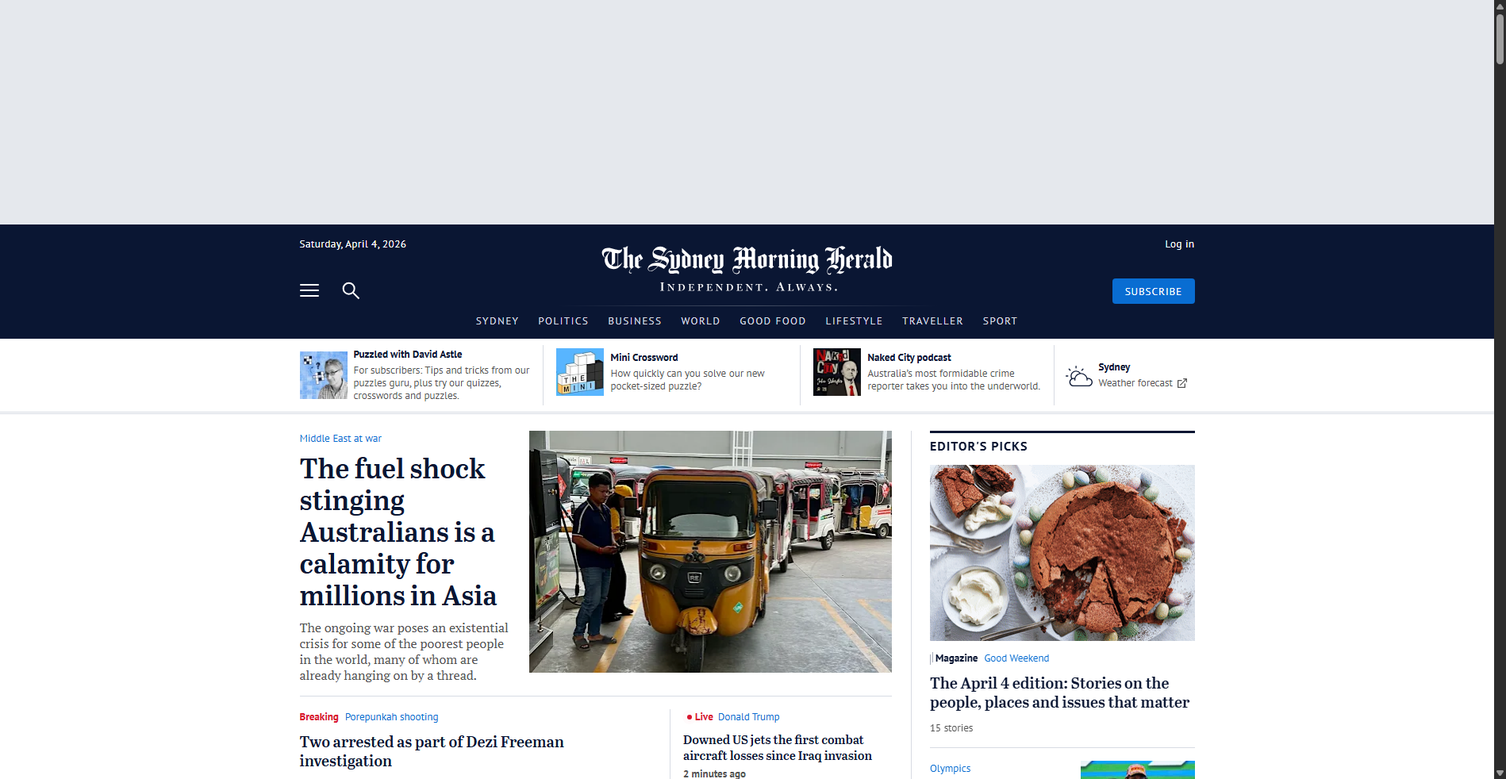general_button: (300, 275, 331, 305), (1259, 89, 1296, 102)
general_image: (529, 431, 892, 672), (930, 465, 1195, 641), (300, 351, 347, 399), (557, 348, 604, 396), (814, 348, 861, 396), (1080, 761, 1195, 779)
general_link: (529, 431, 892, 672), (930, 465, 1195, 641), (300, 455, 510, 613), (300, 733, 657, 771), (930, 675, 1195, 713), (601, 244, 893, 276), (683, 733, 892, 765), (353, 348, 530, 361), (868, 351, 1045, 364), (611, 351, 787, 364), (300, 351, 347, 399), (557, 348, 604, 396), (814, 348, 861, 396), (1080, 761, 1195, 779), (1064, 376, 1188, 390), (1153, 228, 1195, 259), (345, 711, 438, 723), (300, 432, 381, 445), (740, 314, 807, 328), (902, 314, 964, 328), (984, 652, 1049, 665), (826, 314, 883, 328), (608, 314, 662, 328), (718, 711, 780, 723), (538, 314, 589, 328), (476, 314, 519, 328), (681, 314, 721, 328), (930, 763, 971, 775), (983, 314, 1018, 328)
icon_search: (334, 275, 366, 305)
